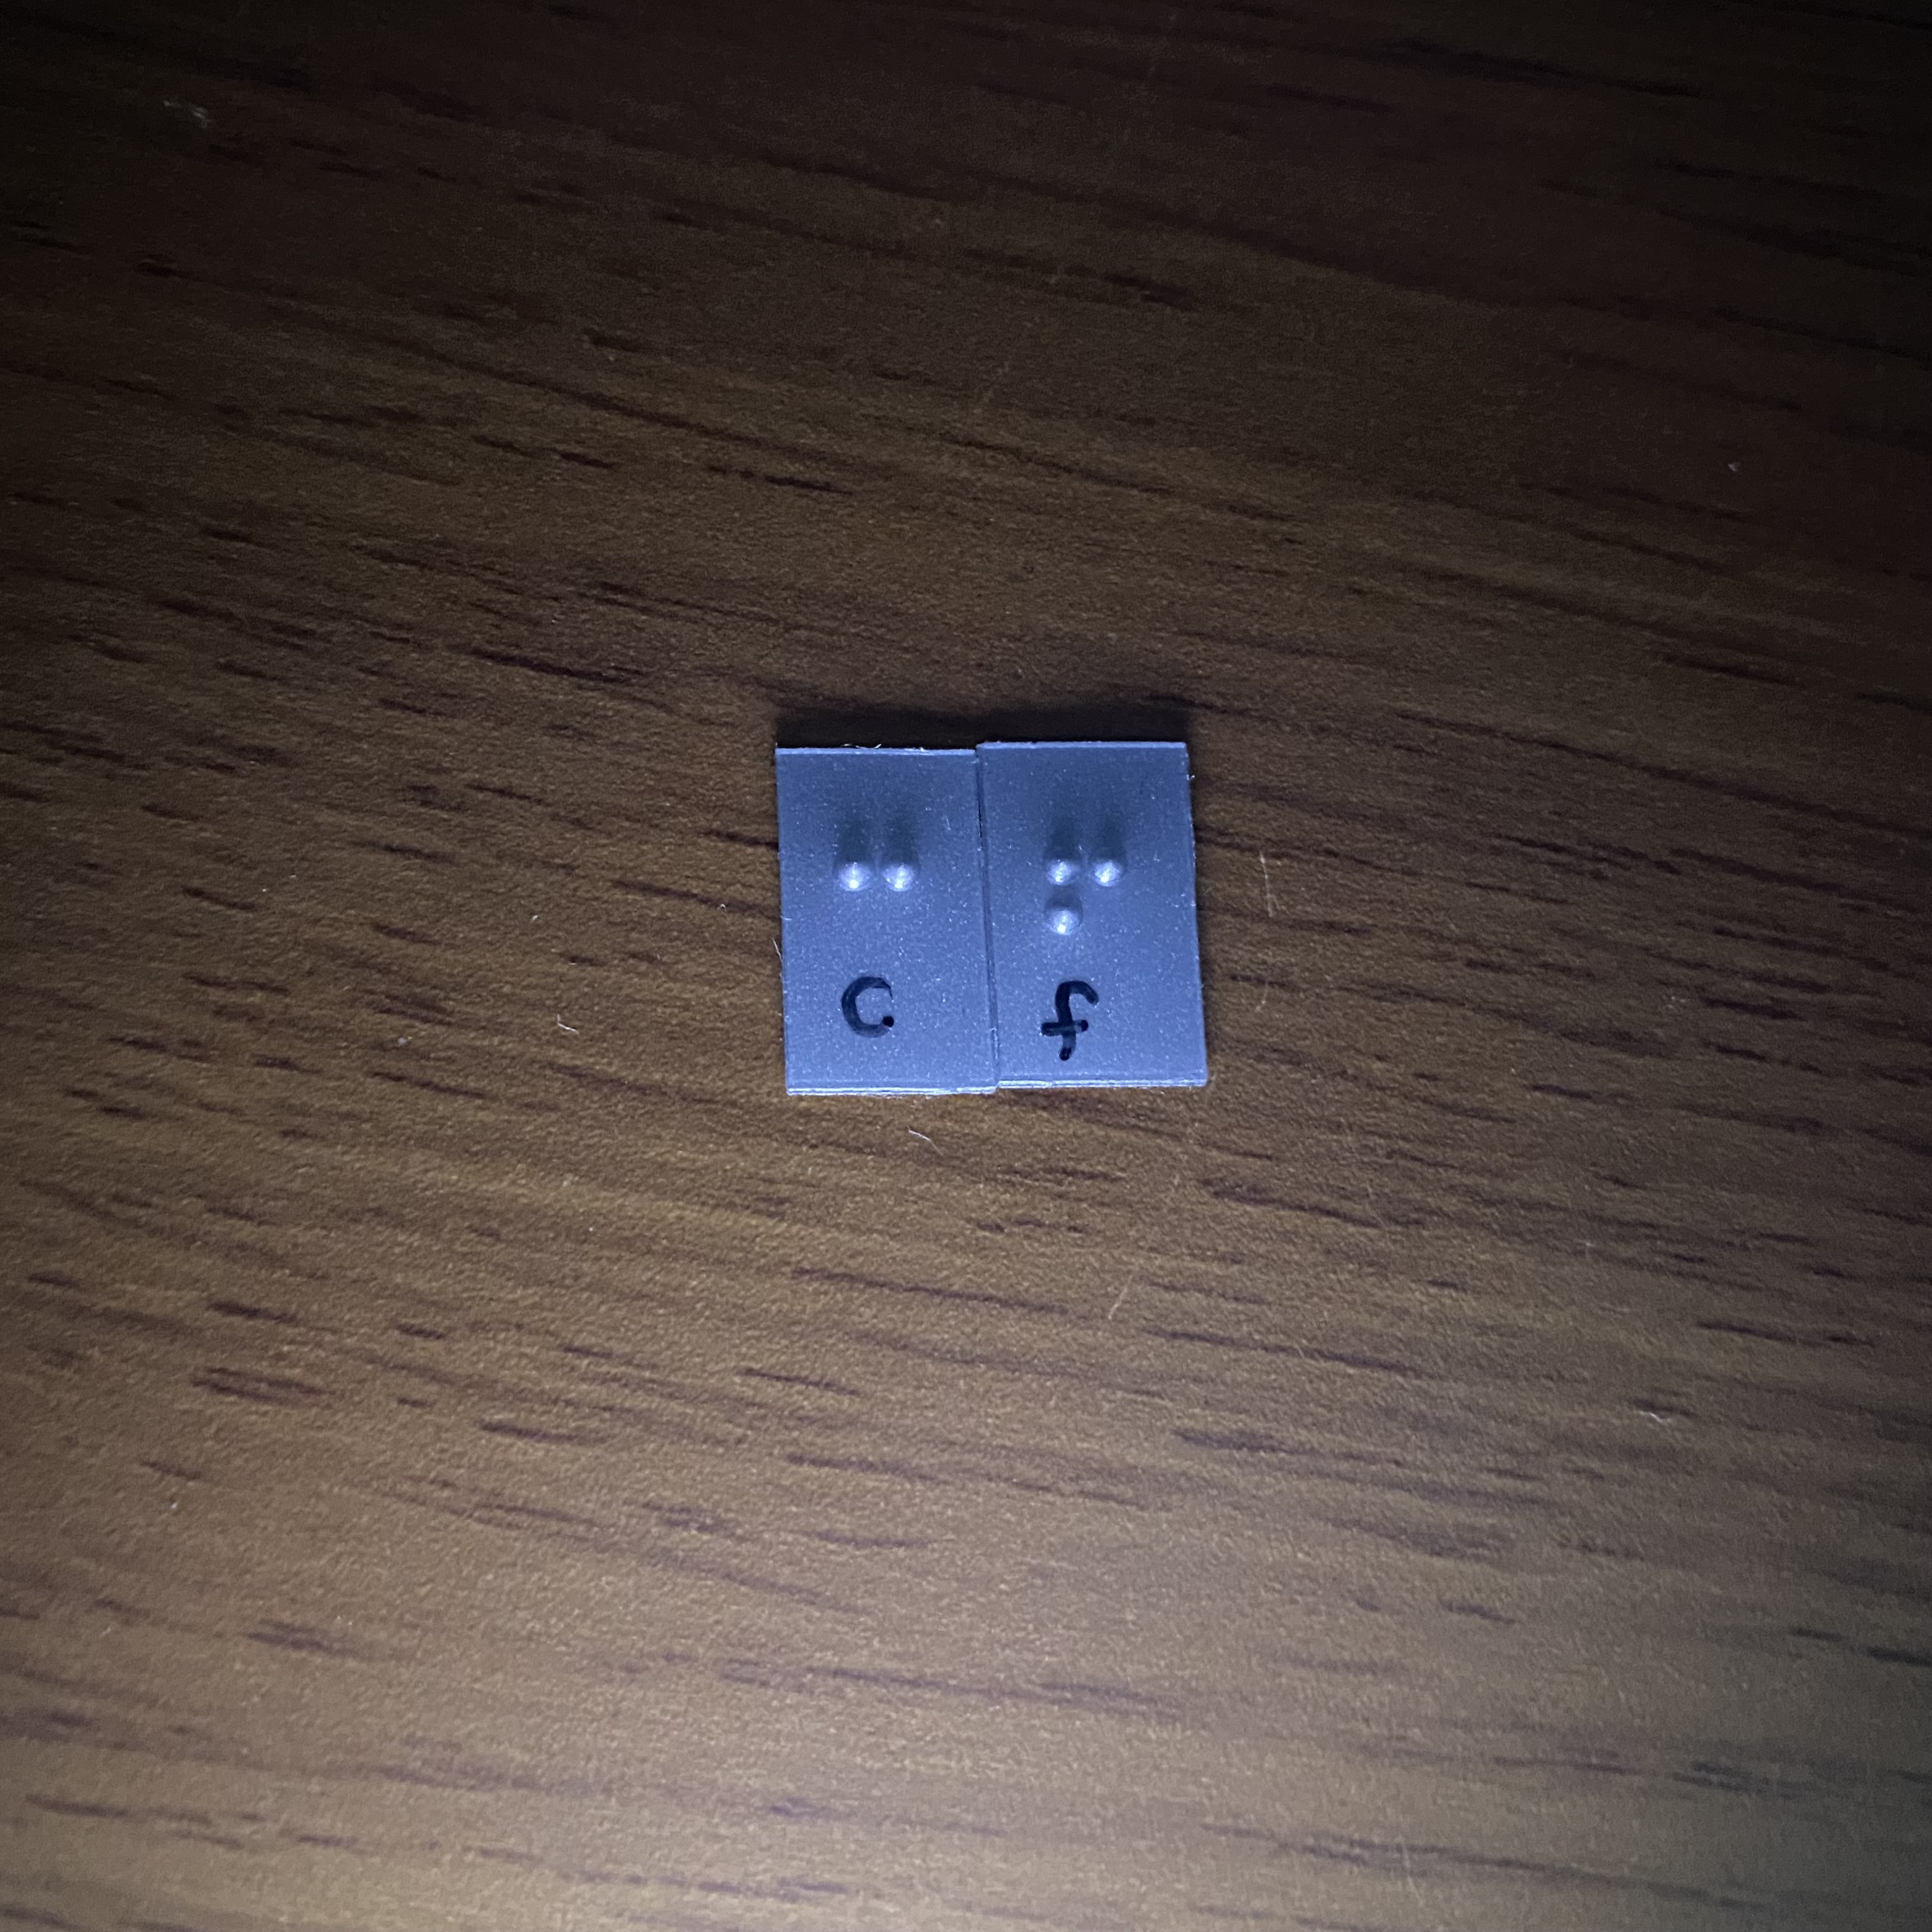c: (818, 808, 947, 1002)
f: (1025, 815, 1151, 1007)
